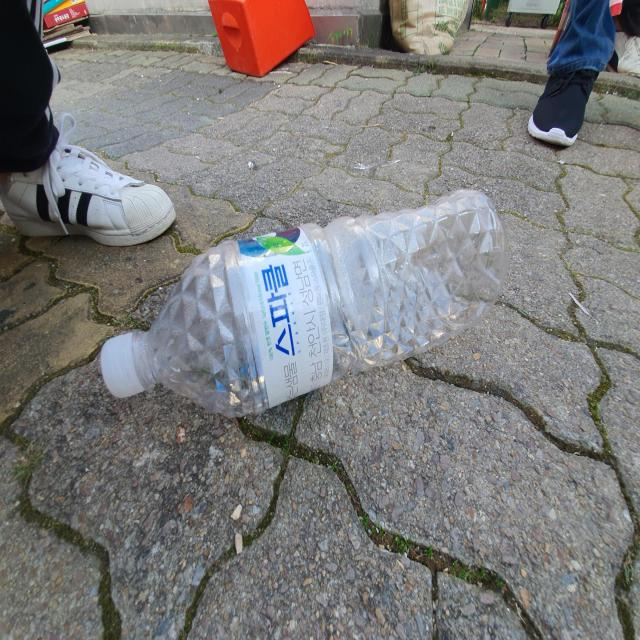plastic: (100, 189, 508, 418)
